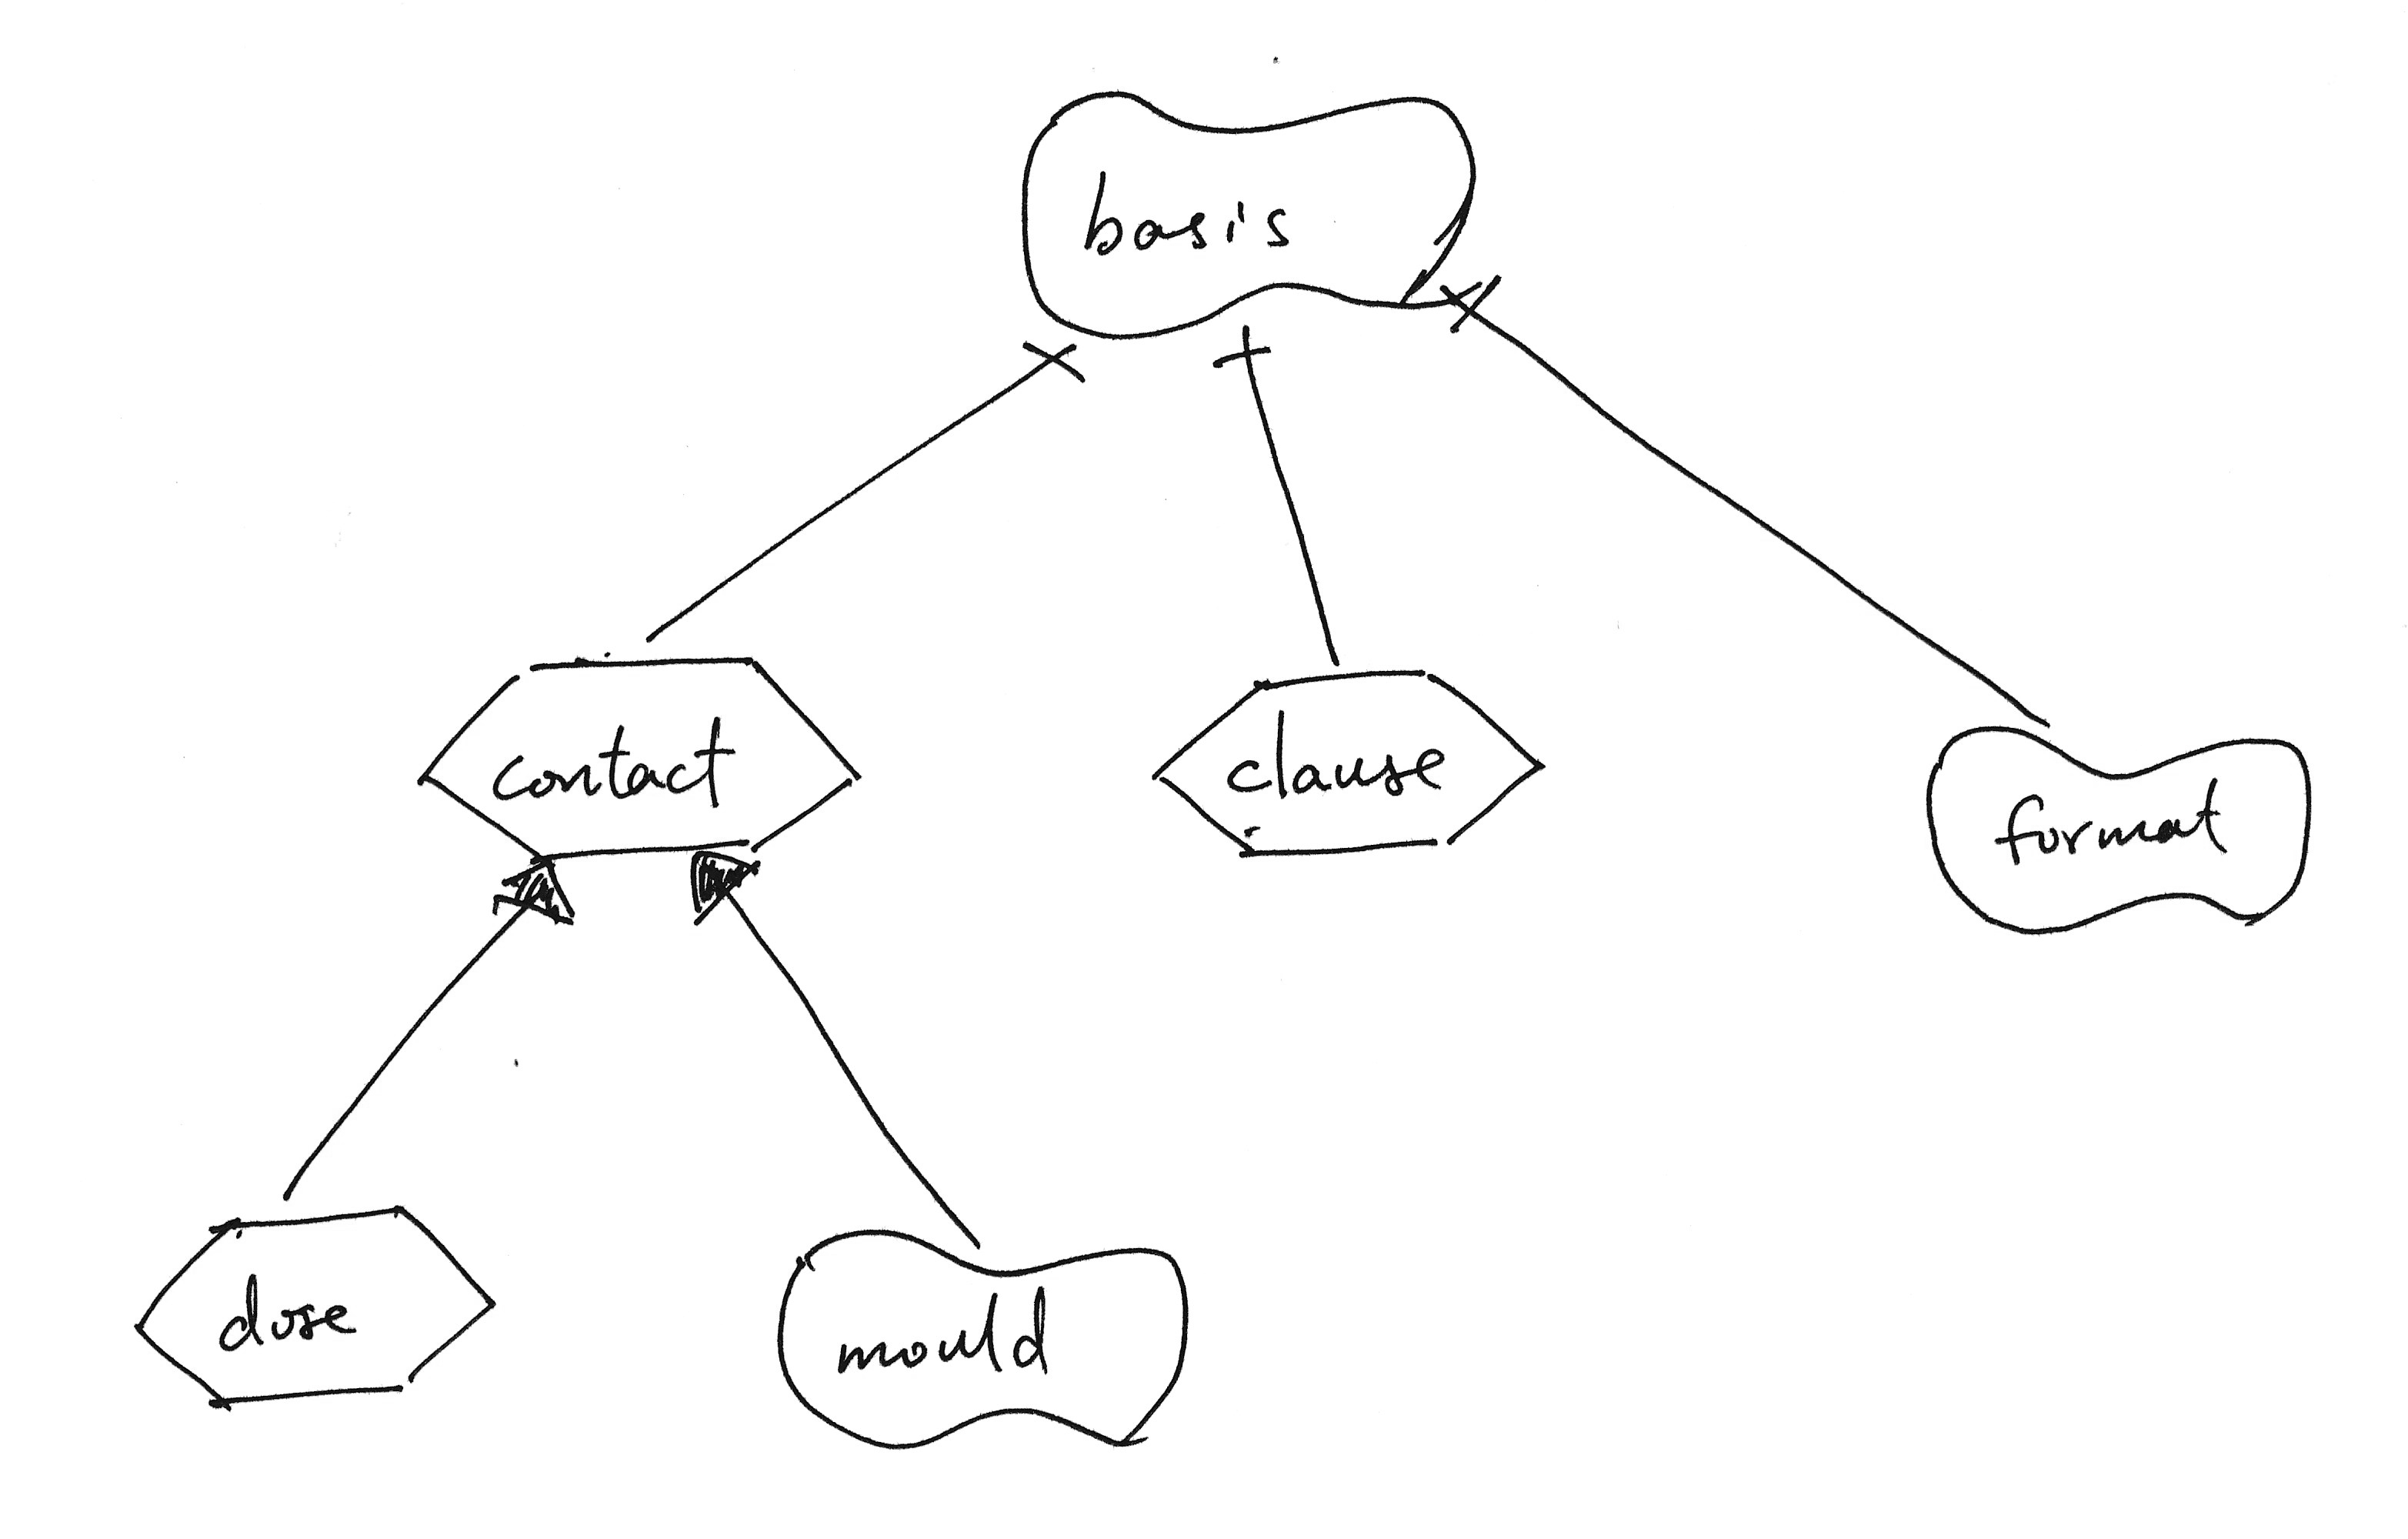and: (1436, 267, 1529, 360), (1208, 316, 1297, 386), (1011, 330, 1095, 402)
or: (470, 853, 593, 946), (662, 846, 770, 941)
quality: (1006, 70, 1492, 340), (760, 1214, 1204, 1467), (1915, 702, 2326, 946)
task: (402, 639, 879, 884), (1132, 651, 1564, 877), (119, 1193, 511, 1420)
